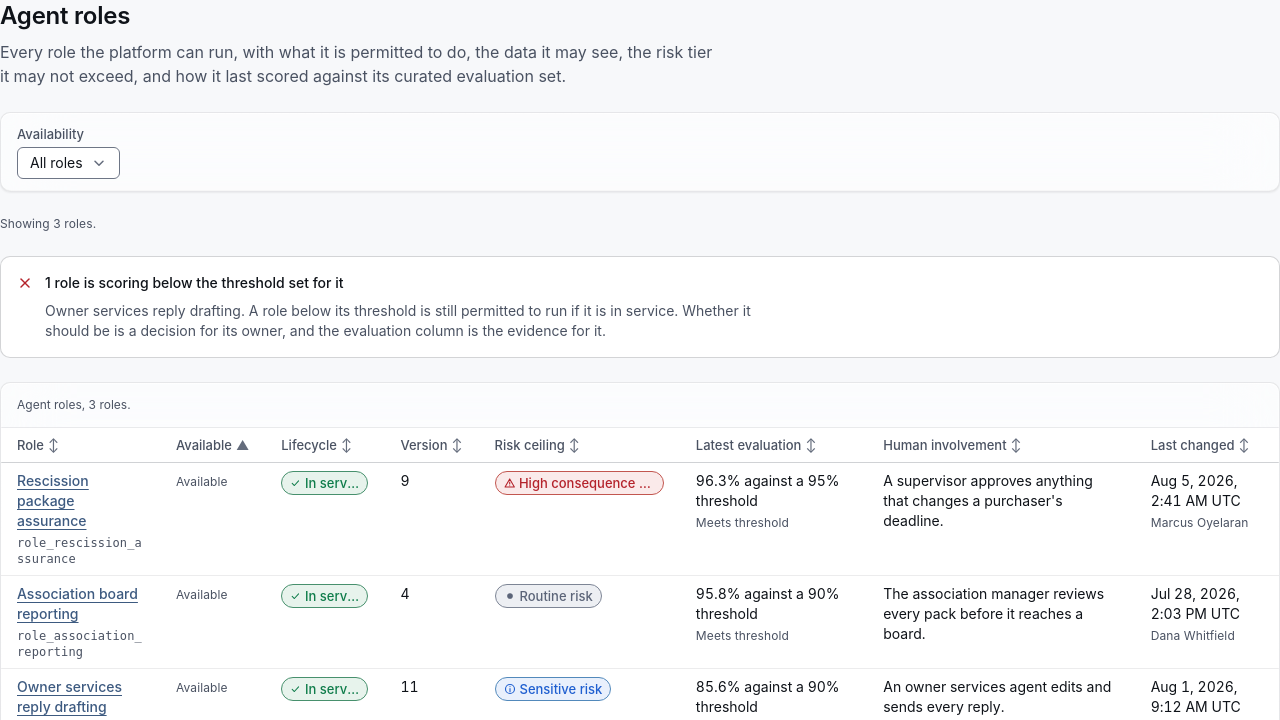
Test case: RoleRegistry › distinguishes an empty registry from an over-tight filter
This screenshot has width=1280, height=720.
Click the dropdown named "Availability": (56,163) [30, 153, 83, 173]
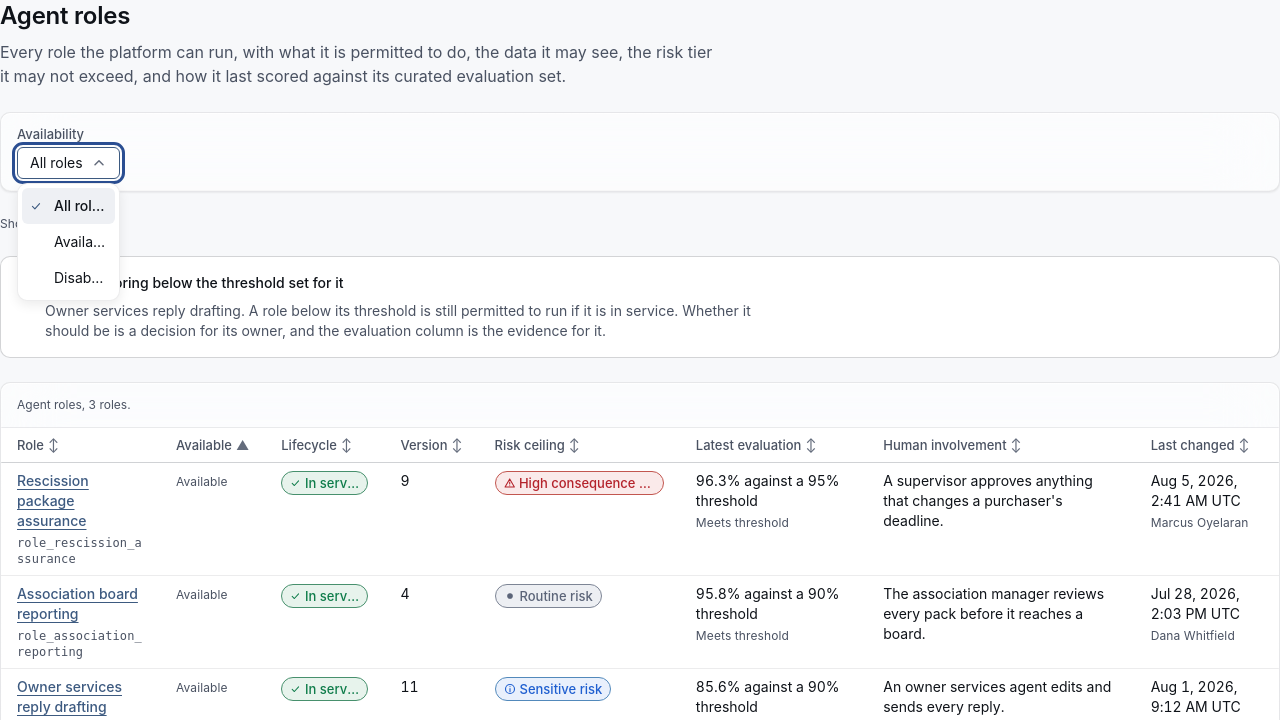
Click the option "Disabled only": (99,278) [54, 269, 143, 286]
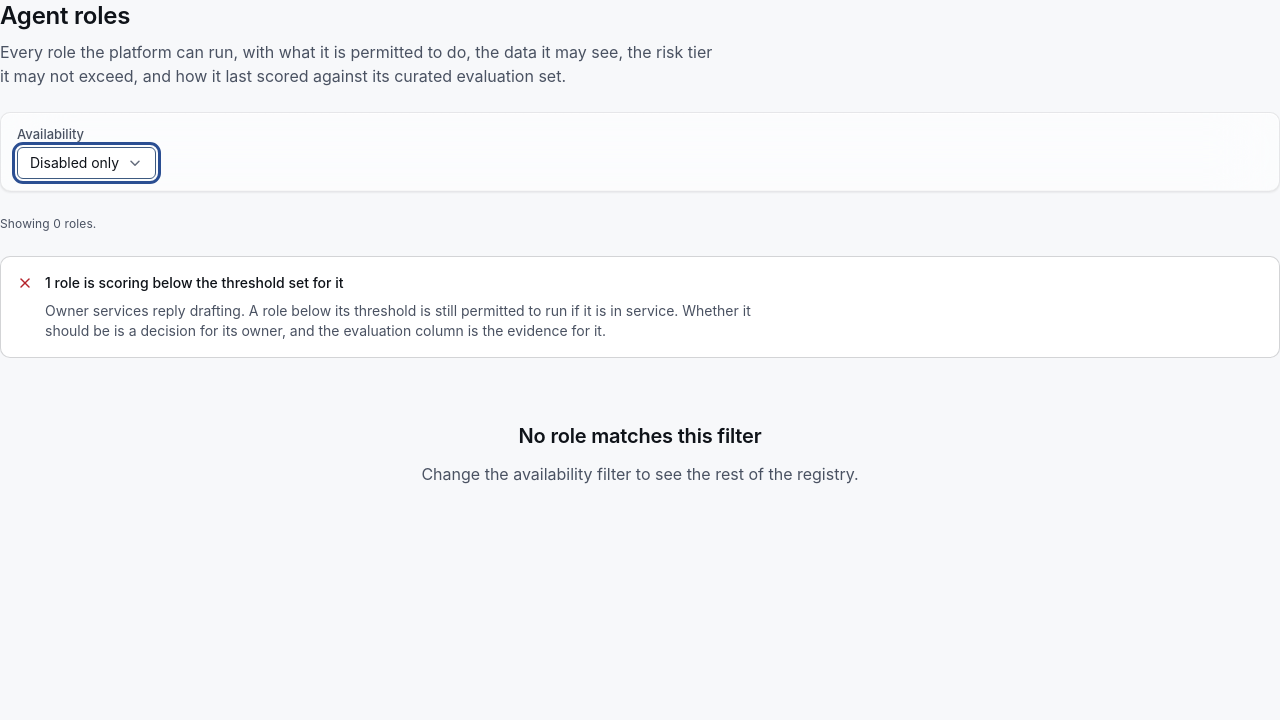
Check: the dropdown named "Availability" reads "Disabled only", box [30, 153, 119, 173]
Check: the heading "No role matches this filter" is shown, box [519, 422, 761, 450]
